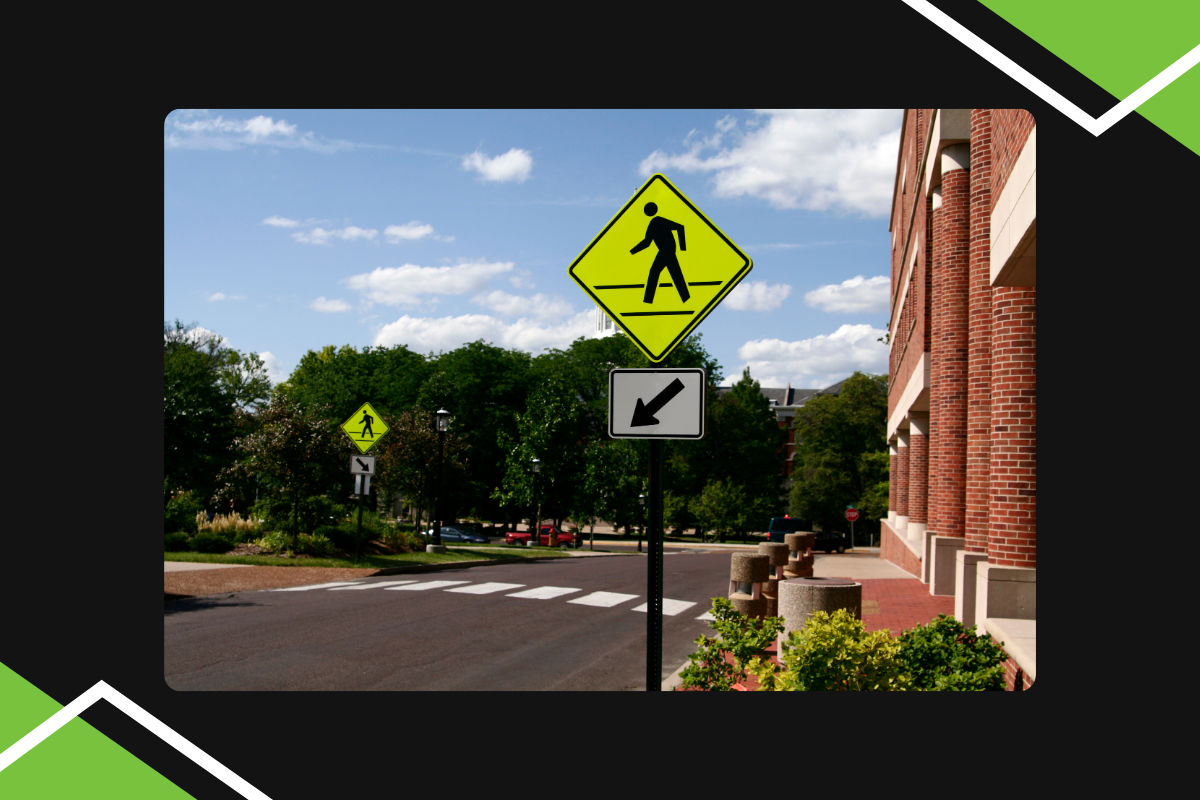Crosswalk: (282, 554, 754, 645)
